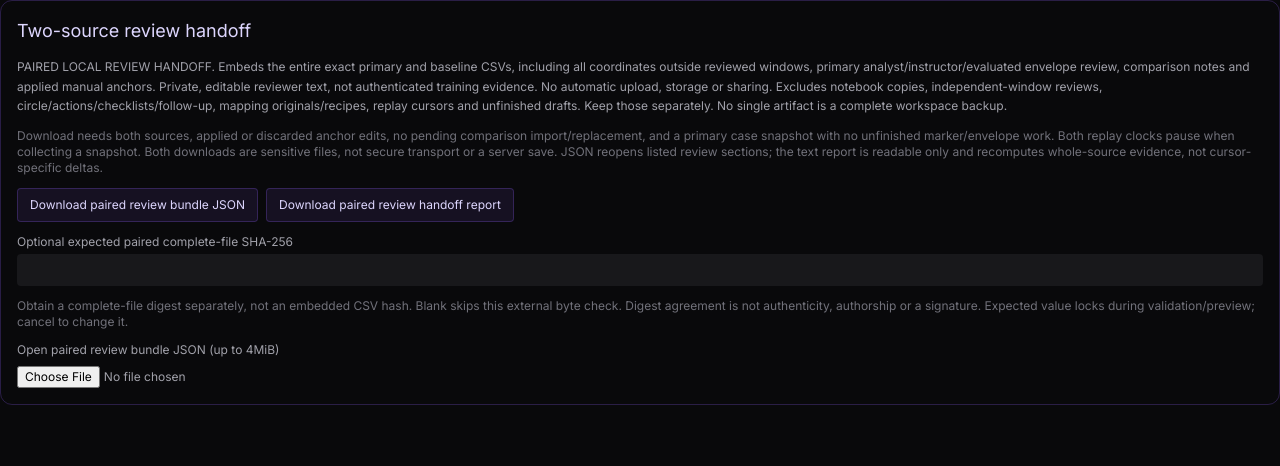
downloads a readable snapshot only on explicit request with the same source guards as JSON
The width and height of the screenshot is (1280, 466).
Click the button "Download paired review handoff report": click(390, 204) top-left (266, 188), bottom-right (514, 222)
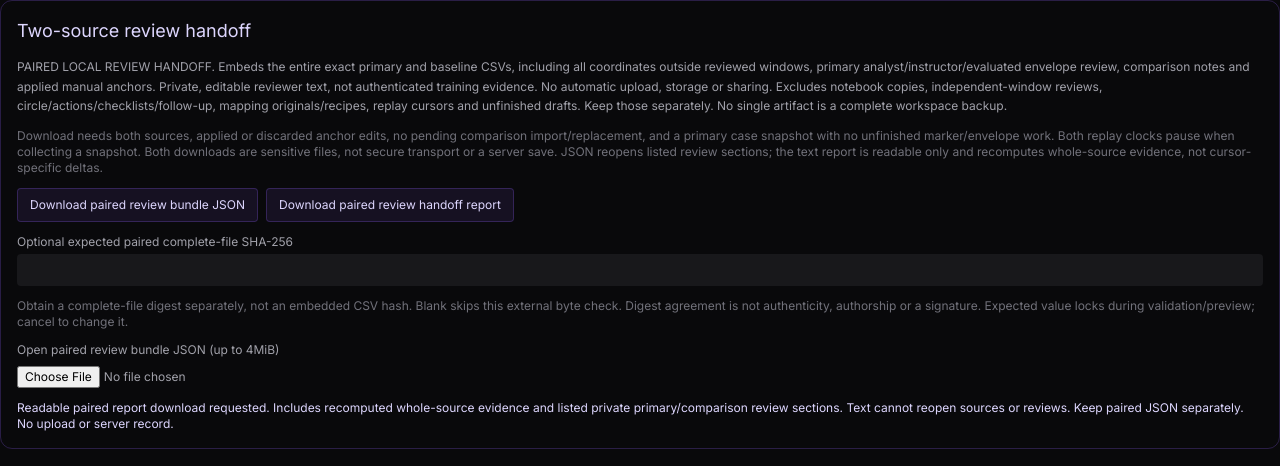
Click the button "Download paired review handoff report": click(390, 204) top-left (266, 188), bottom-right (514, 222)
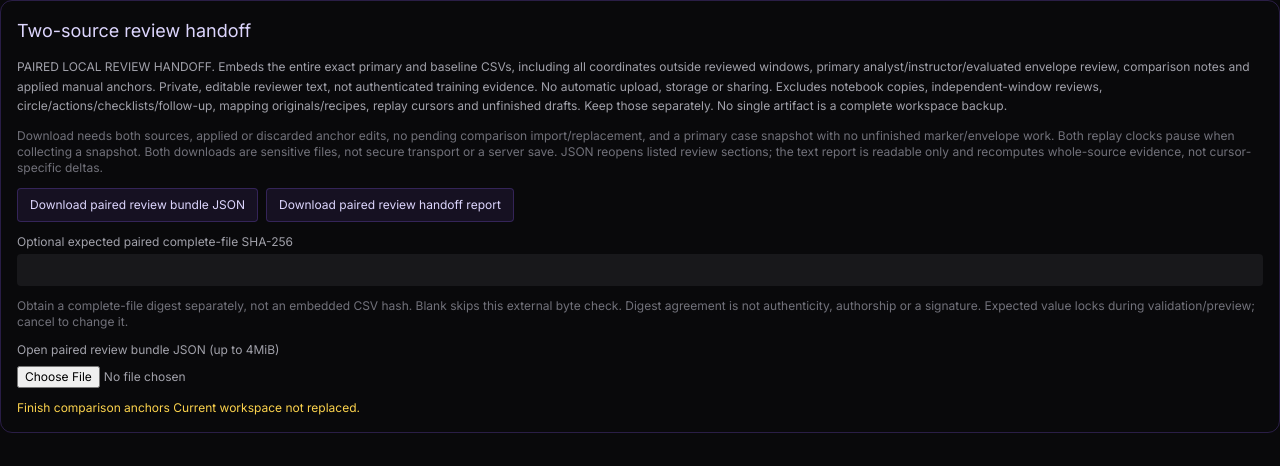
Expected: the message "Finish comparison anchors Current workspace not replaced." is shown, top-left (17, 400), bottom-right (360, 414)
